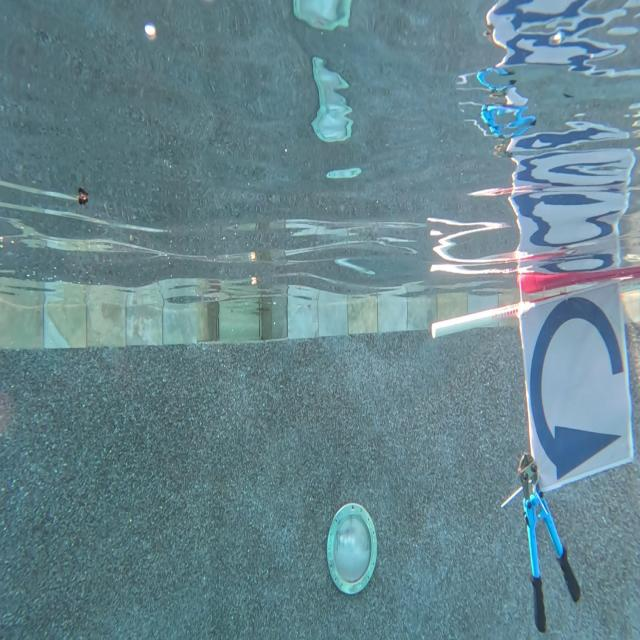blue_side: (522, 294, 630, 483)
